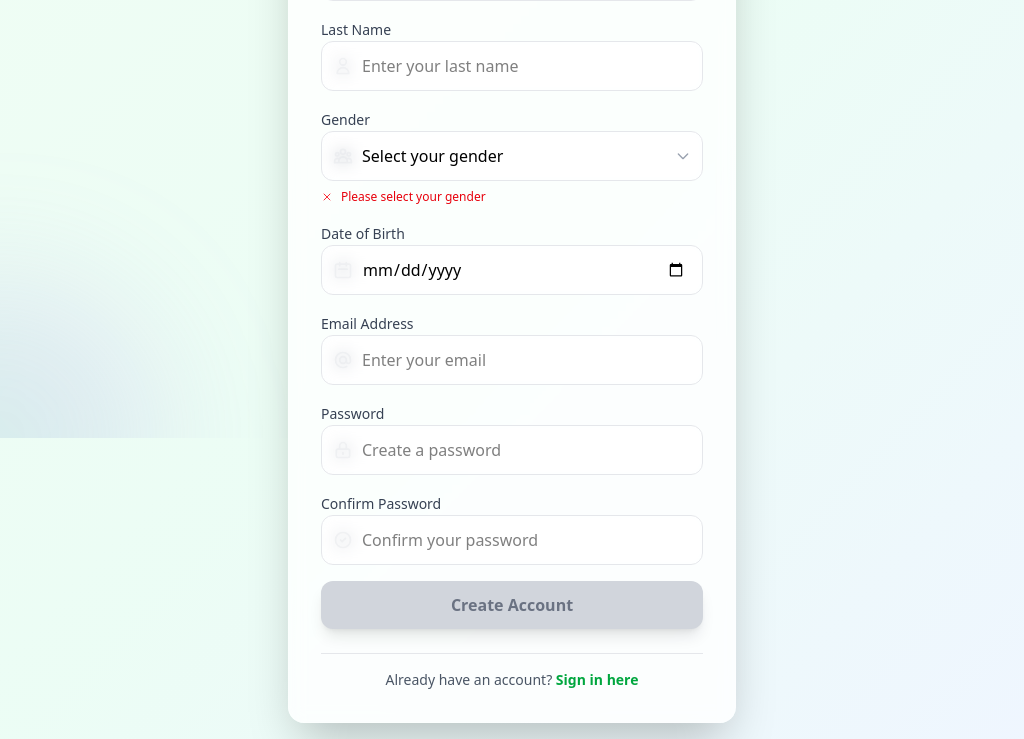
Test: Signup › should validate password confirmation
(page scrolled)
In the password field with placeholder "Create a password": (512, 450) [321,425,703,475], type "Password123"
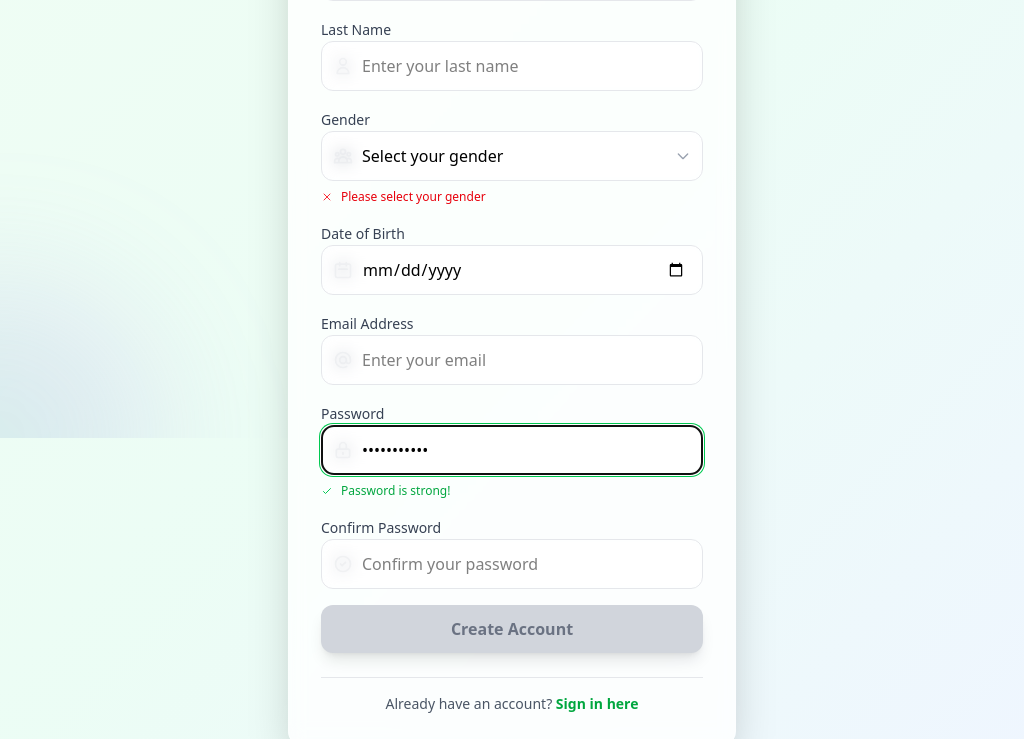
In the password field with placeholder "Confirm your password": (512, 564) [321,539,703,589], type "DifferentPassword"
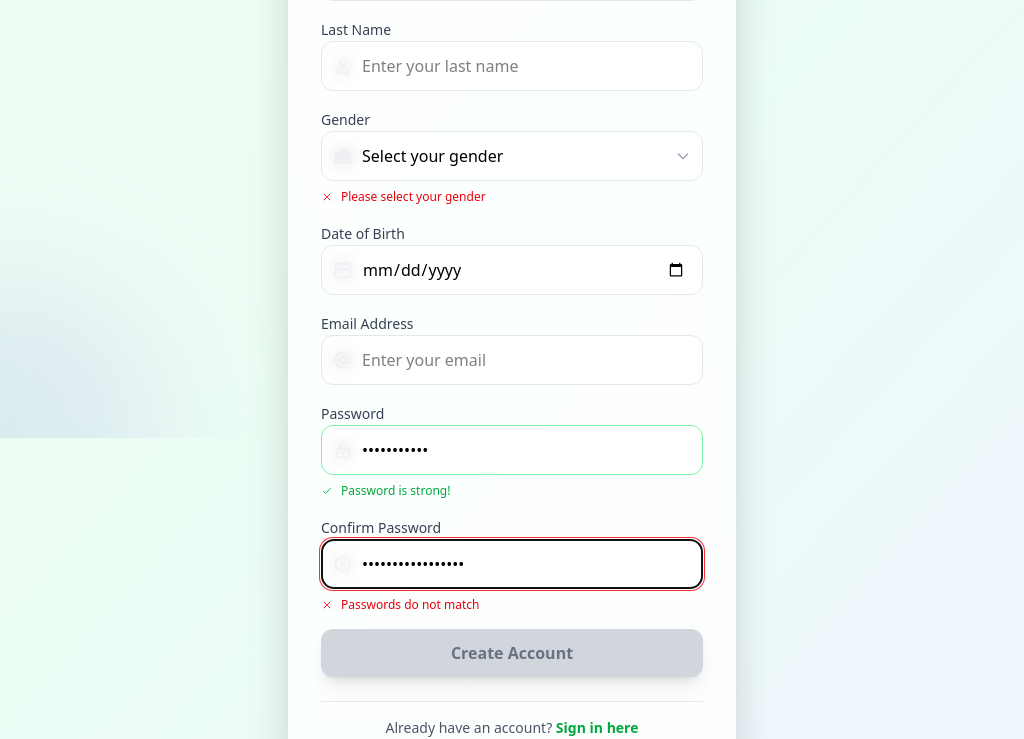
Expected: the text "Passwords do not match" is shown, [341,597,480,613]
In the password field with placeholder "Confirm your password": (512, 564) [321,539,703,589], type "Password123"
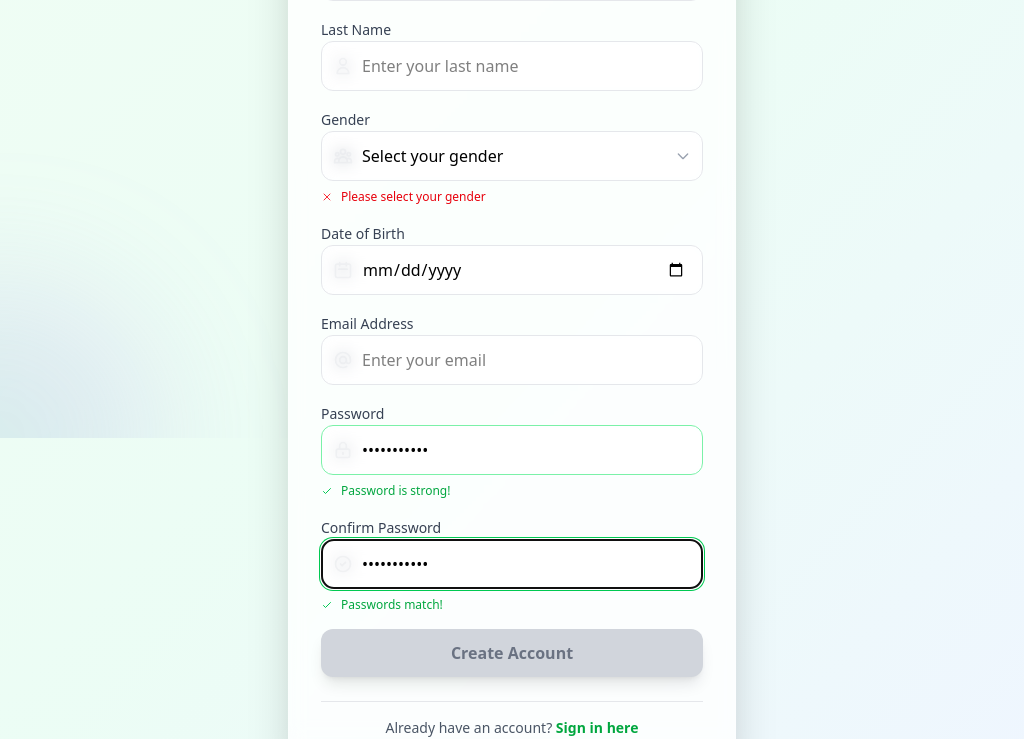
Expected: the text "Passwords match!" is shown, [341,597,443,613]
